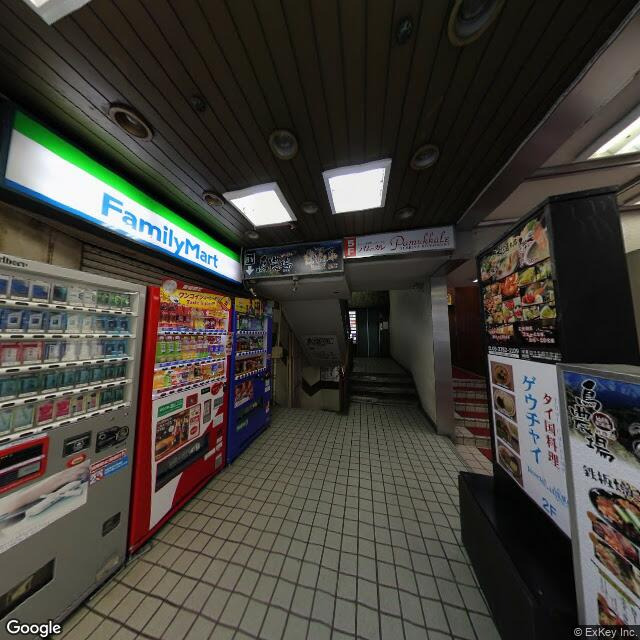family_mart: (6, 108, 243, 283), (97, 188, 221, 271)
